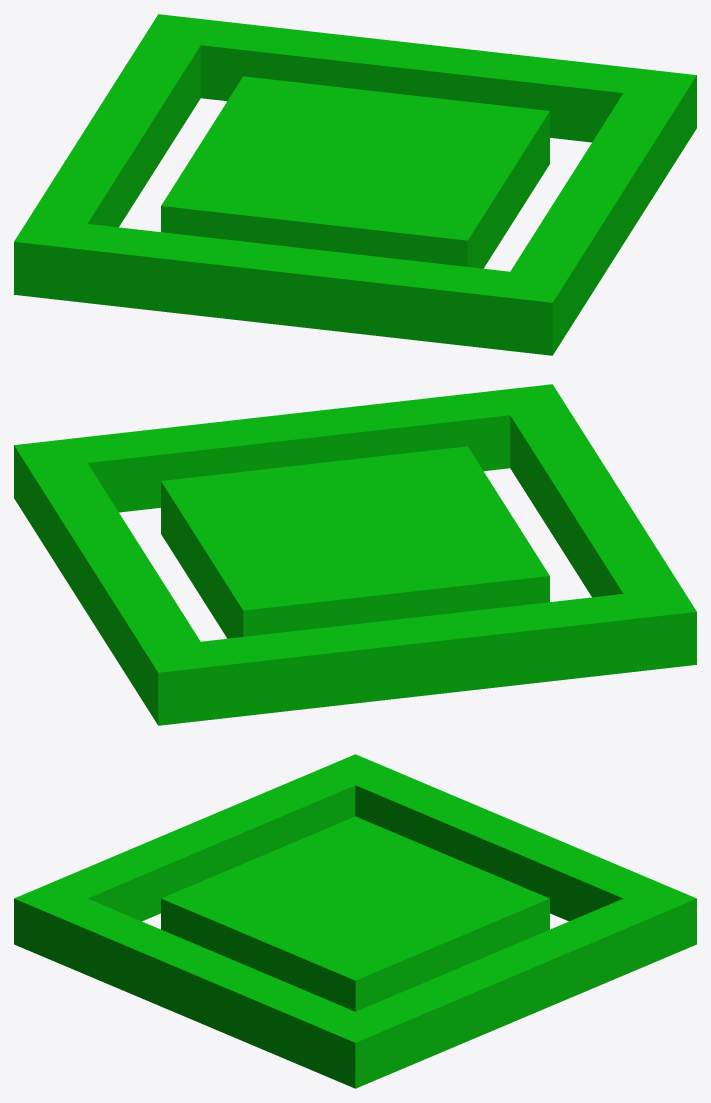
The model's file is land_path_node.fbx.
3 renders of one model, top to bottom at view 1: azimuth 30°, elevation 25°; view 2: azimuth 150°, elevation 25°; view 3: azimuth 270°, elevation 25°, orthographic. The views are drawn at different scales.
Visible parts, largest first — view 1: Тор; view 2: Тор; view 3: Тор.
Boxes of the visible parts, <box> form: Тор: <box>14,14,696,355</box>; Тор: <box>14,384,696,725</box>; Тор: <box>14,754,696,1088</box>.
Size of the model in its own units: 138 by 10.27 by 138.
